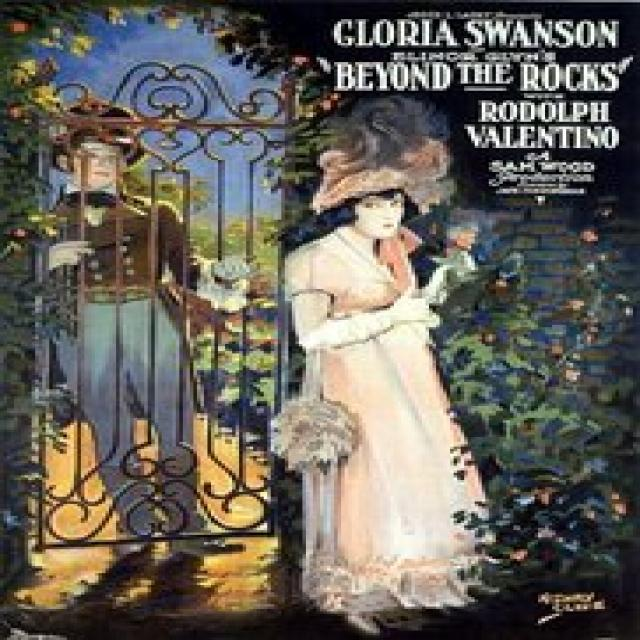movie-judul: (311, 7, 640, 152)
picture: (38, 97, 483, 610)
